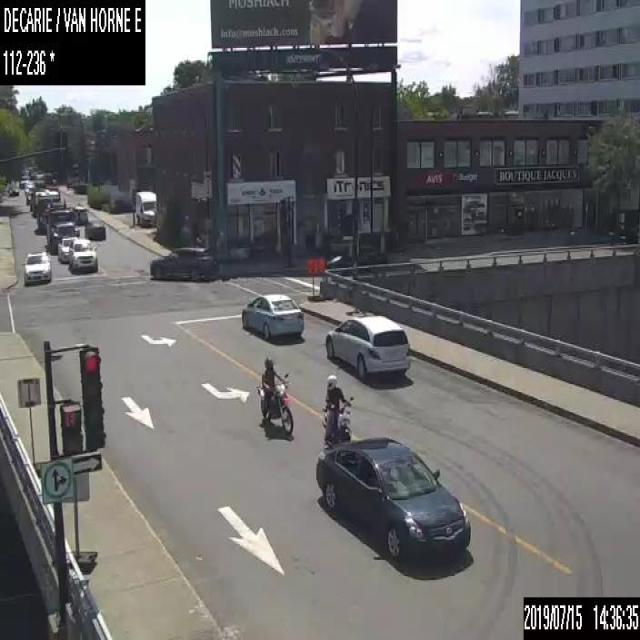construction: (62, 470, 98, 572), (16, 376, 46, 476), (316, 255, 328, 300), (305, 256, 317, 300)
vehicle: (316, 436, 470, 562), (324, 314, 410, 376), (257, 355, 294, 432), (241, 293, 303, 338), (320, 374, 354, 447), (148, 244, 215, 280), (46, 206, 80, 252), (33, 189, 65, 229), (68, 236, 96, 272), (21, 252, 50, 284), (134, 188, 157, 226), (57, 237, 77, 261), (84, 218, 105, 238), (72, 205, 86, 223), (8, 184, 18, 194)
